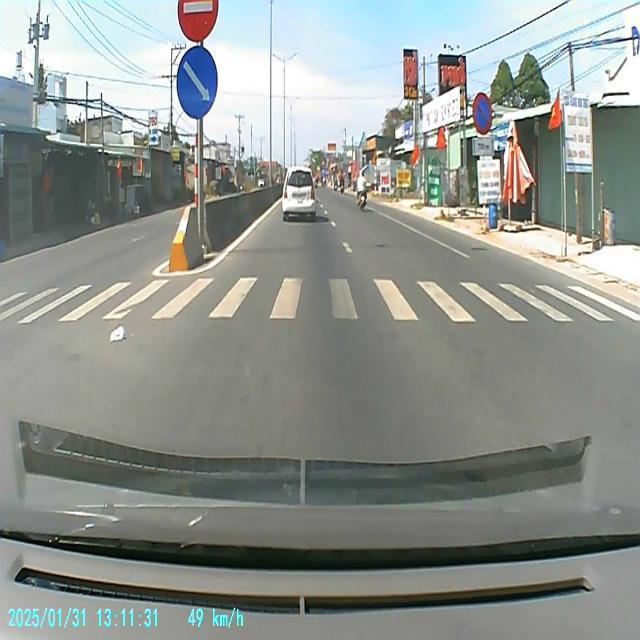102-cam-di-nguoc-chieu: (176, 0, 220, 42)
131a-cam-do-xe: (472, 90, 493, 134)
302a-huong-phai-di-vong-chuong-ngai-vat-1: (175, 45, 219, 119)
